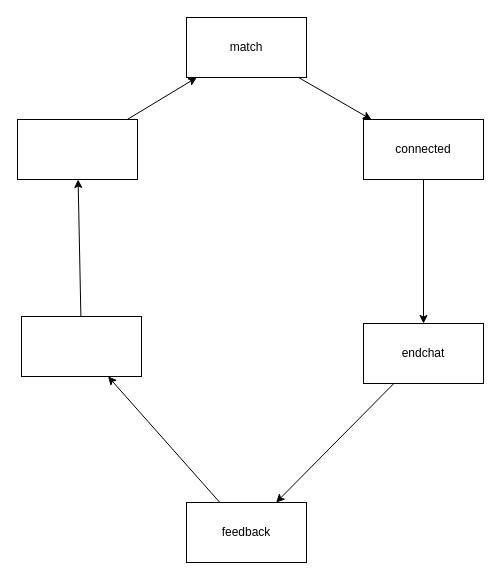
Image size: 501x580. Some labels were removed from this diagram. The centre of each missing label's shape, as x and y in pixels:
ready: point 77,149
waiting: point 81,346
